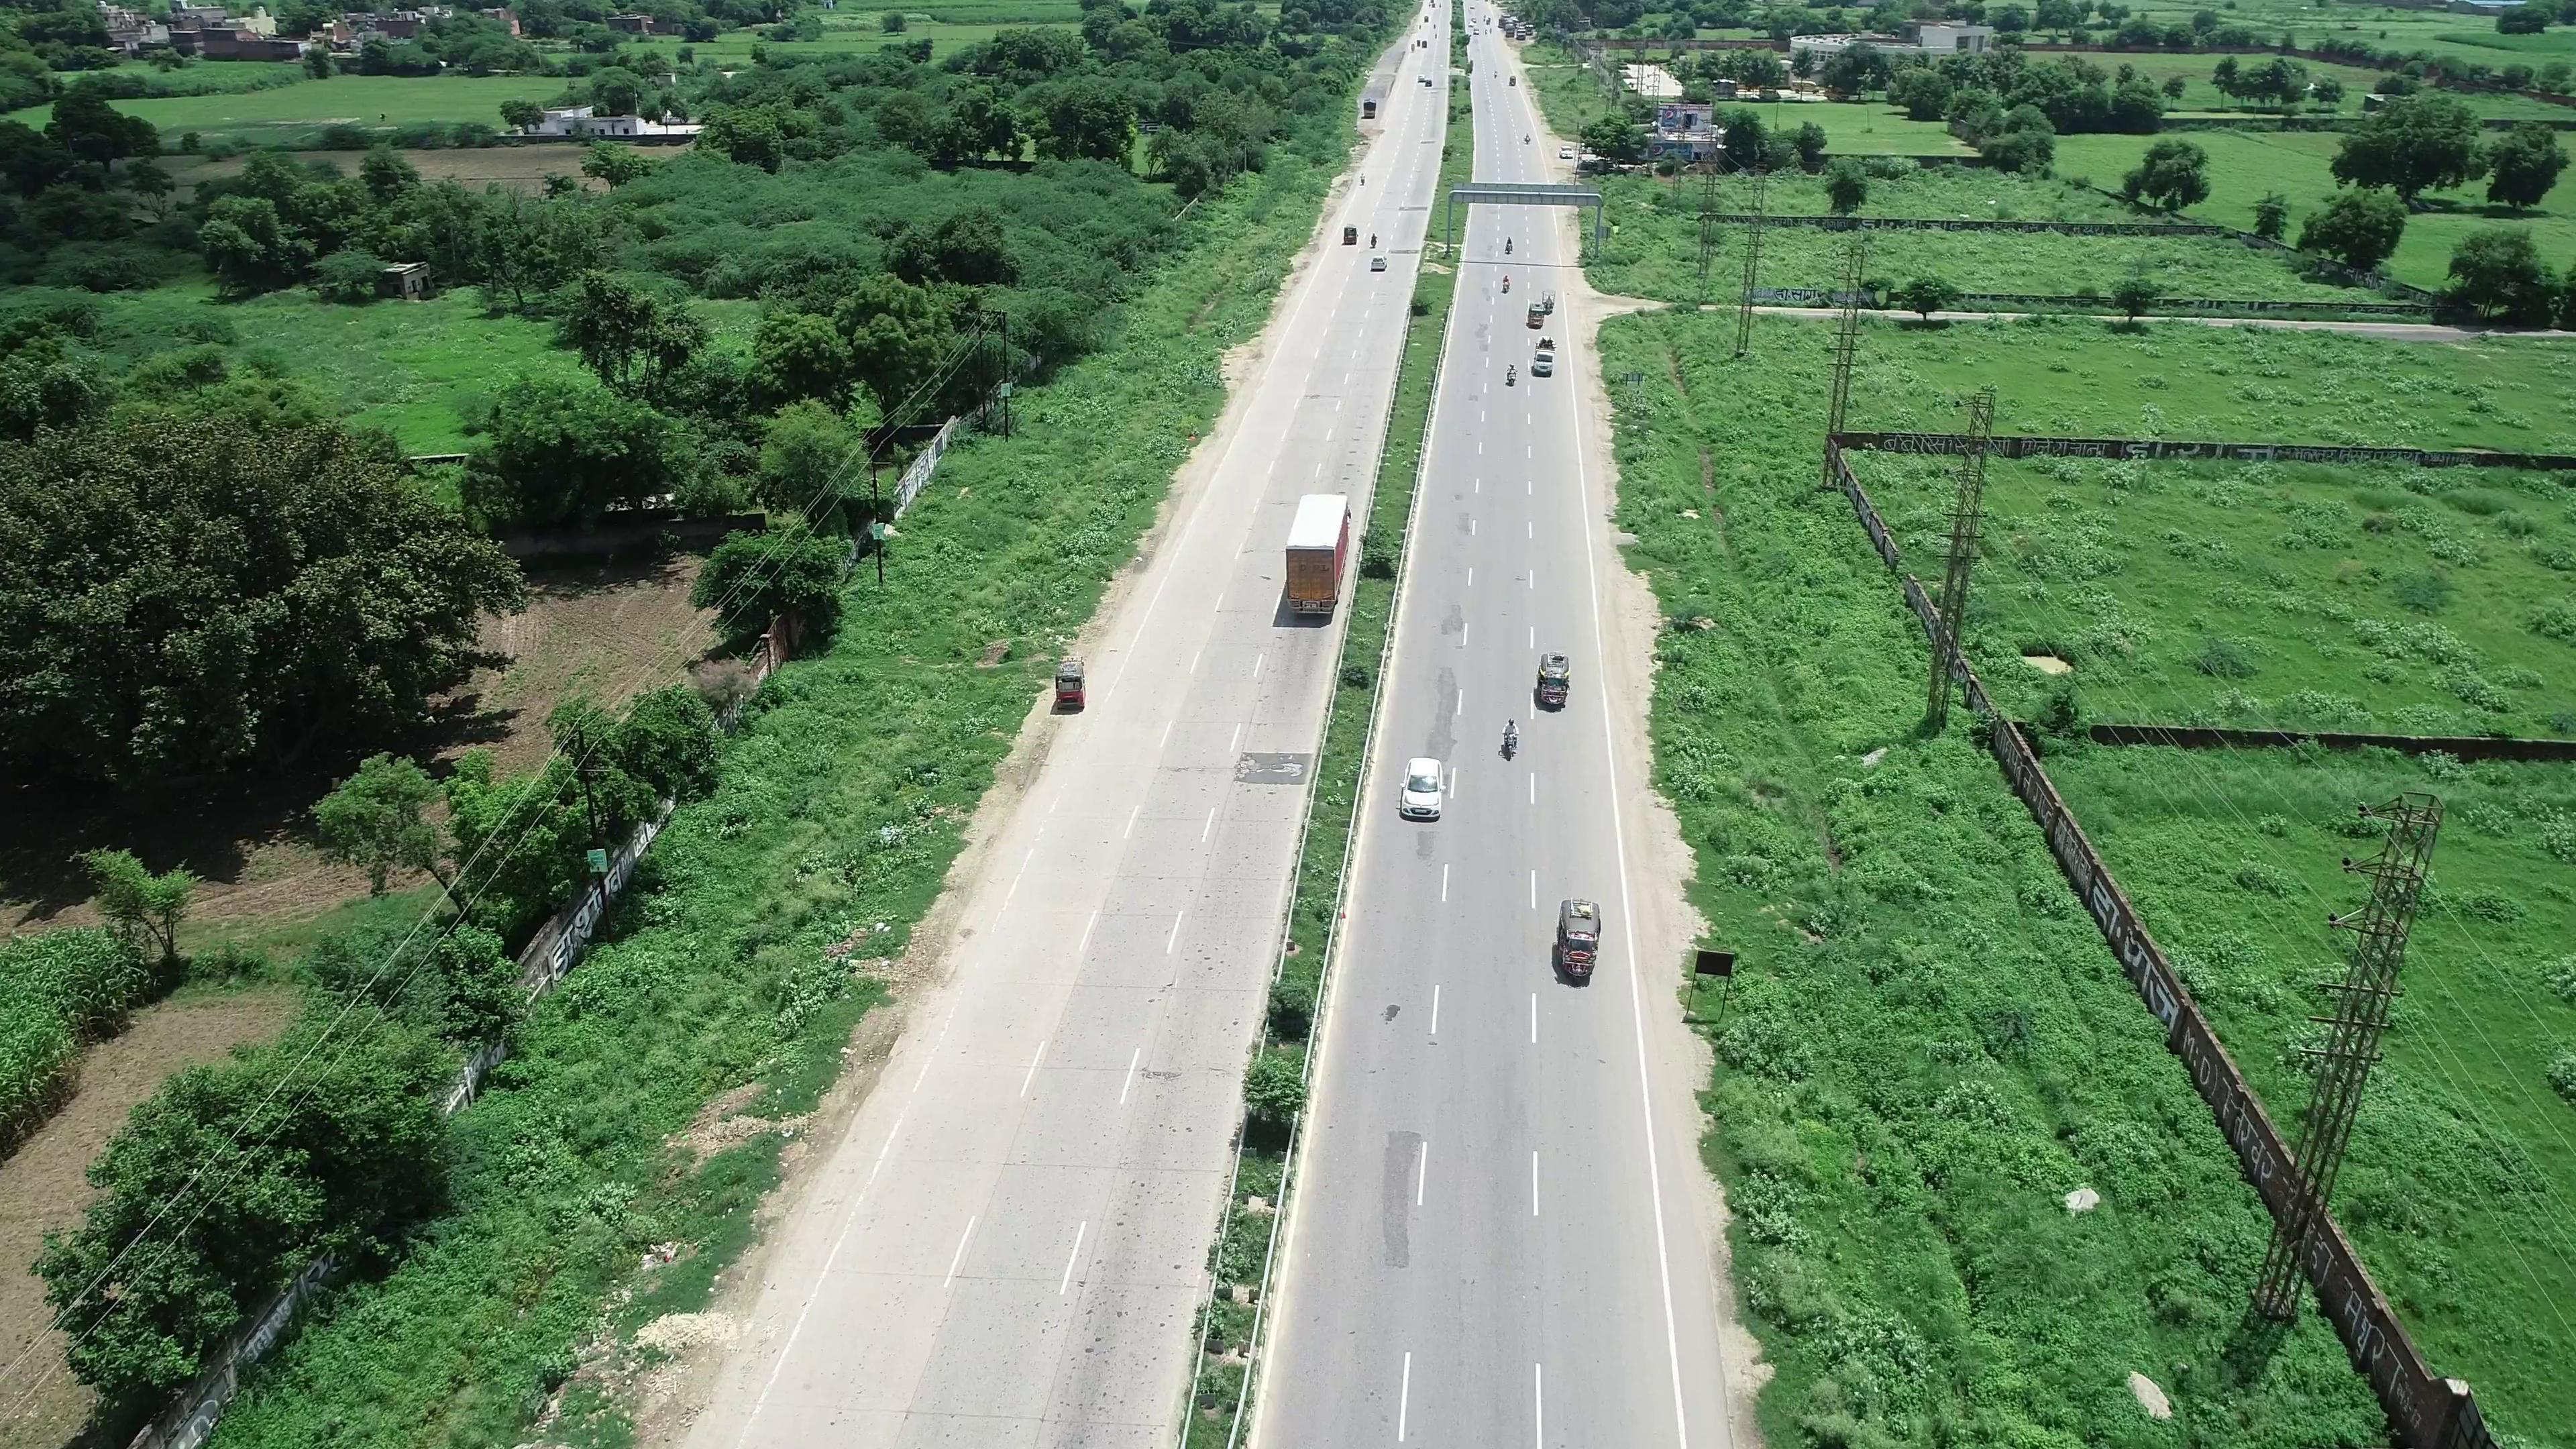Potholes: (1230, 748, 1300, 782)
